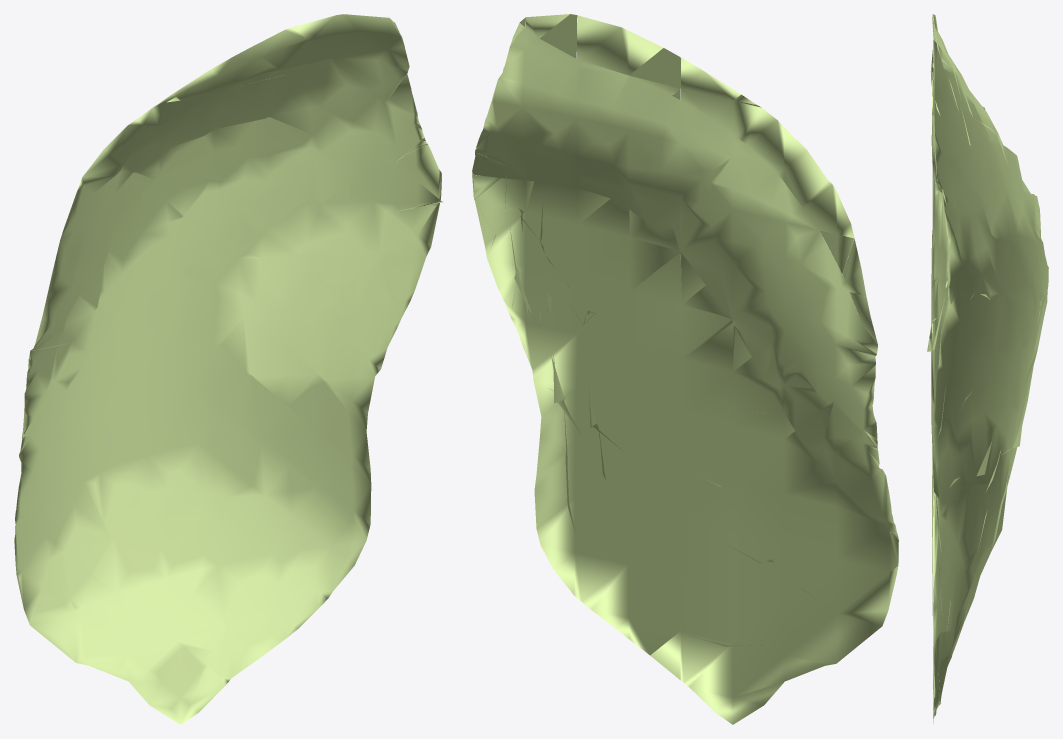
The picture shows the model from 3 angles, left to right: view 1: azimuth 30°, elevation 25°; view 2: azimuth 150°, elevation 25°; view 3: azimuth 270°, elevation 25°; orthographic projection. The views are drawn at different scales.
Parts seen in each view (by area): view 1: Switch_Switch_osgPicked_gmeGeoEntityGeode_Geometry_0; view 2: Switch_Switch_osgPicked_gmeGeoEntityGeode_Geometry_0, Switch_Switch_osgPicked_gmeGeoEntityGeode_Geometry_Geometry_ (×2); view 3: Switch_Switch_osgPicked_gmeGeoEntityGeode_Geometry_0.
Part boxes in pixels (x1,y1,x2,y2): Switch_Switch_osgPicked_gmeGeoEntityGeode_Geometry_0: [14, 14, 442, 724]; Switch_Switch_osgPicked_gmeGeoEntityGeode_Geometry_0: [472, 14, 898, 724]; Switch_Switch_osgPicked_gmeGeoEntityGeode_Geometry_Geometry_ (×2): [540, 14, 854, 273]; Switch_Switch_osgPicked_gmeGeoEntityGeode_Geometry_0: [927, 14, 1048, 723].
Bounding box in the file's own units: 4107 × 6171 × 910.
